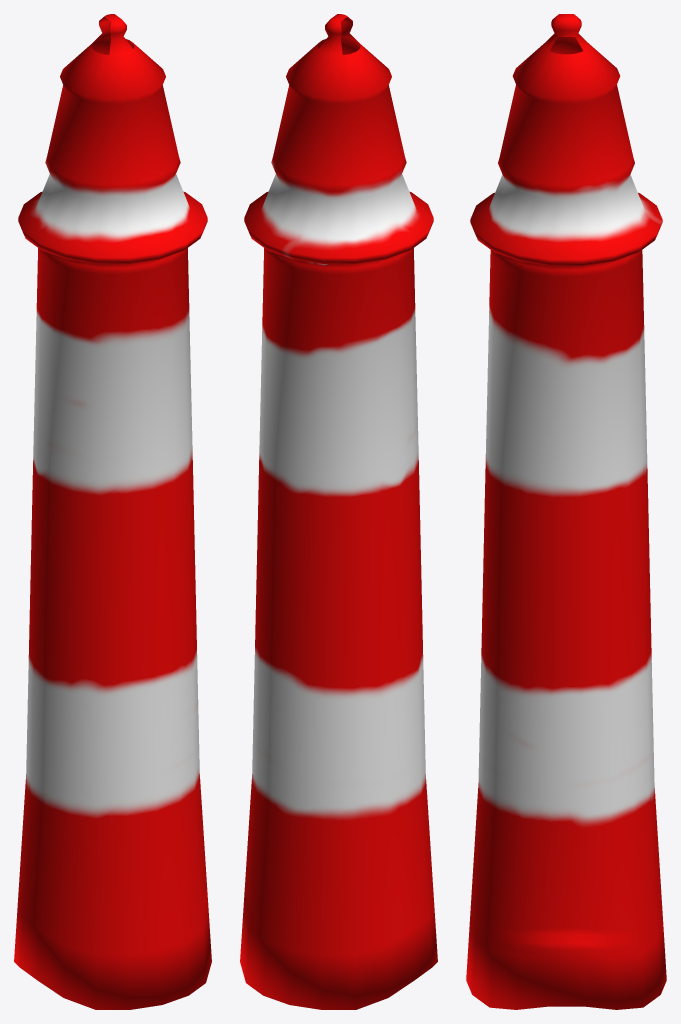
Rendered from lighthouse.fbx.
3 views of the same model, side by side, from view 1: azimuth 30°, elevation 25°; view 2: azimuth 150°, elevation 25°; view 3: azimuth 270°, elevation 25° (orthographic).
Visible parts, largest first — view 1: Lighthouse; view 2: Lighthouse; view 3: Lighthouse.
Part boxes in pixels (left/top/right/bottom): Lighthouse: left=14, top=14, right=211, bottom=1009; Lighthouse: left=240, top=14, right=437, bottom=1009; Lighthouse: left=466, top=14, right=666, bottom=1009.
Size of the model in its own units: 87.79 by 472 by 89.15.
Materials: 1 (1 with a texture image).
